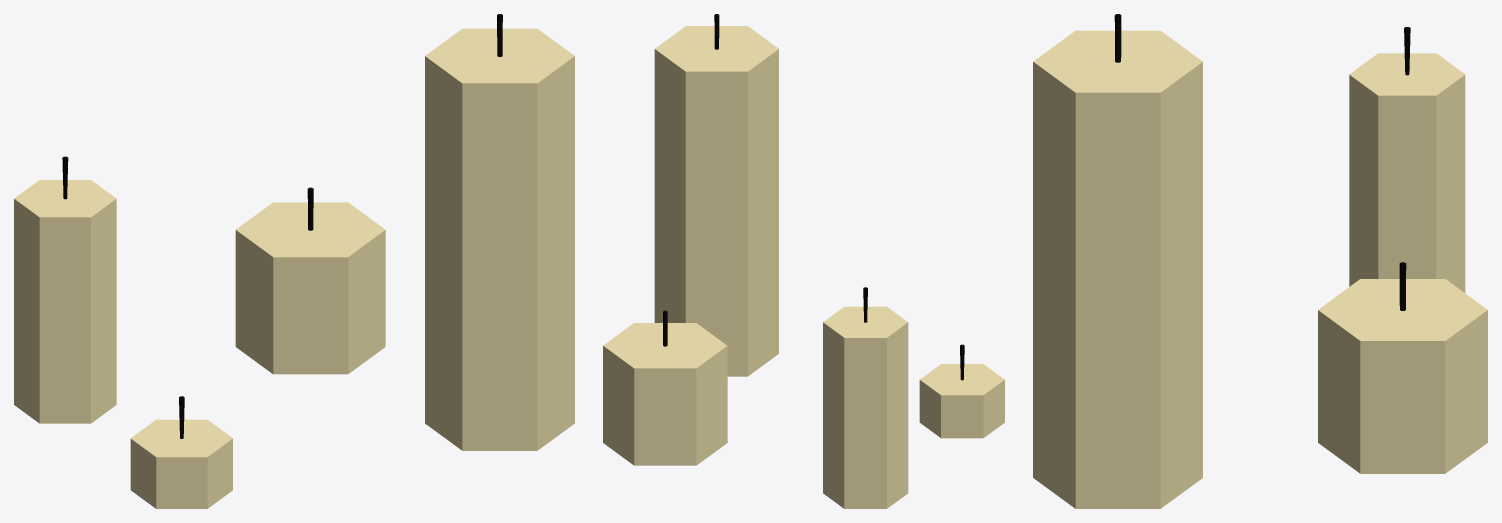
Rendered from vela.fbx.
3 renders of one model, left to right at view 1: azimuth 30°, elevation 25°; view 2: azimuth 150°, elevation 25°; view 3: azimuth 270°, elevation 25°, orthographic. The views are drawn at different scales.
Visible parts, largest first — view 1: candle.003, candle, candle.002, candle.001; view 2: candle.003, candle, candle.002, candle.001; view 3: candle.003, candle.002, candle.
Boxes of the visible parts, bbox=[...] form: candle.003: bbox=[425, 14, 574, 450]; candle: bbox=[14, 156, 116, 423]; candle.002: bbox=[235, 187, 385, 374]; candle.001: bbox=[130, 396, 232, 508]; candle.003: bbox=[654, 14, 778, 376]; candle: bbox=[823, 287, 908, 508]; candle.002: bbox=[603, 310, 727, 465]; candle.001: bbox=[919, 344, 1004, 438]; candle.003: bbox=[1033, 14, 1202, 508]; candle.002: bbox=[1318, 262, 1487, 473]; candle: bbox=[1349, 27, 1465, 292].
Size of the model in its own units: 39.26 by 38.14 by 33.97.
